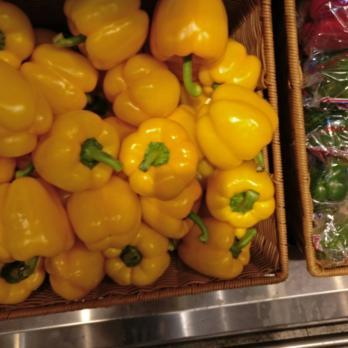Capsicum: (0, 0, 277, 290)
